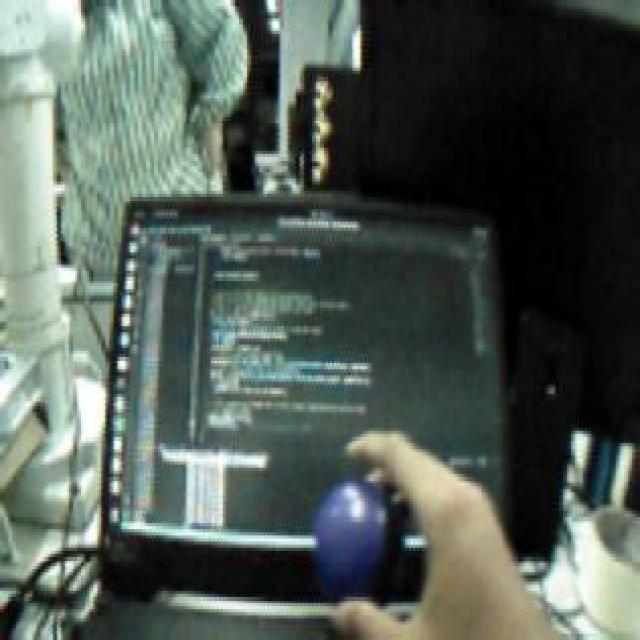BallPurple: (314, 478, 399, 595)
